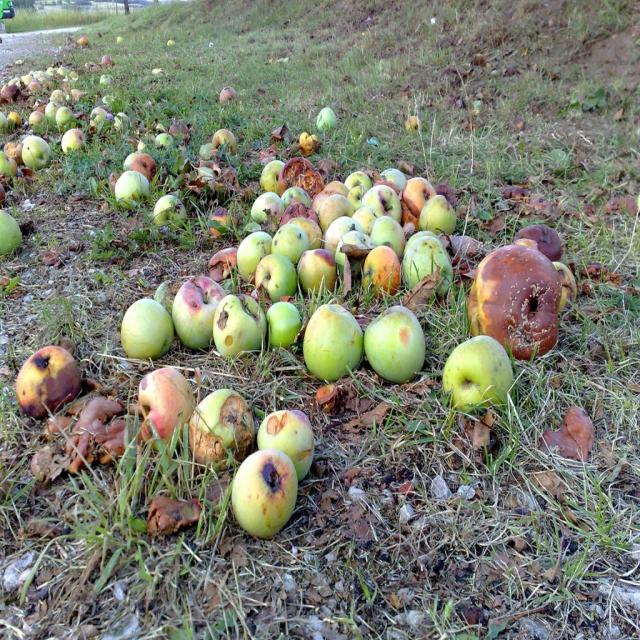Healty Apple: (118, 159, 580, 414), (0, 62, 80, 180), (224, 464, 301, 546), (188, 391, 253, 468), (16, 346, 81, 418), (136, 366, 194, 446), (257, 405, 313, 480), (152, 193, 189, 232), (114, 170, 150, 210), (0, 209, 22, 259), (211, 130, 238, 157), (133, 152, 157, 181), (316, 108, 336, 134), (156, 129, 173, 153), (91, 107, 106, 130), (218, 87, 236, 103), (406, 116, 422, 131), (122, 154, 137, 168), (104, 53, 115, 68), (100, 72, 112, 85), (77, 36, 89, 48)
